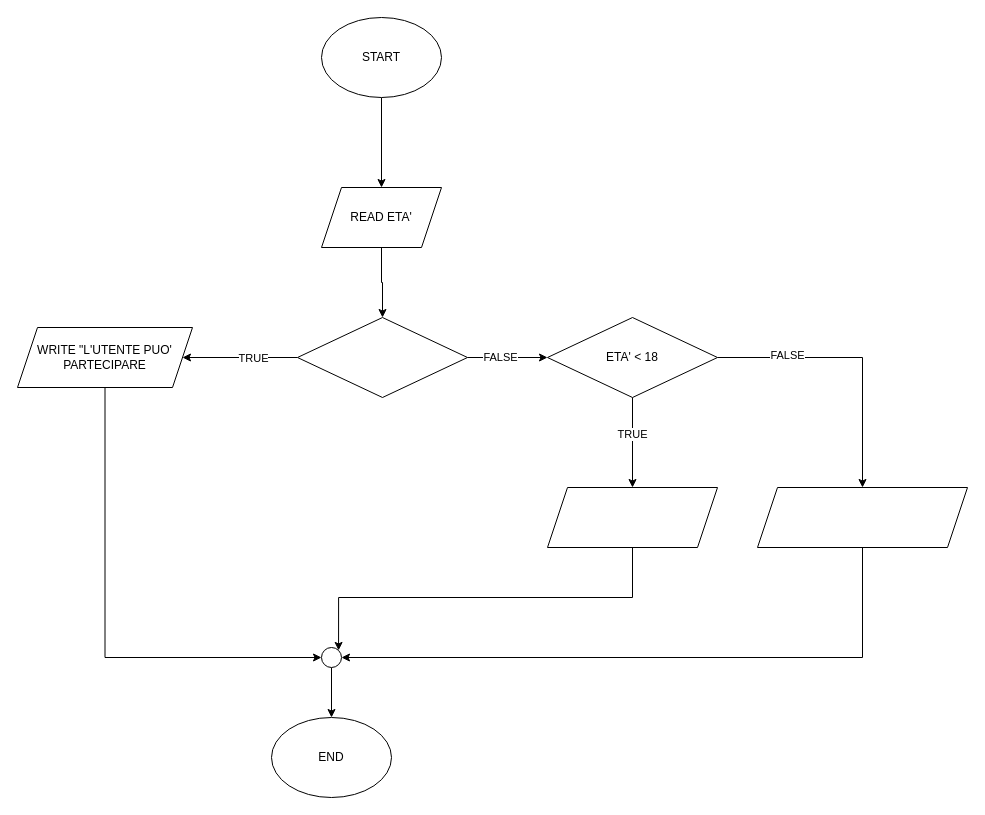
The diagram is 985 pixels wide and 815 high, and some of its shapes have lost their labels. The shapes that lost their labels are listed below. From the top down, each one's box as (x1, y1, x2, y2) in pixels, then its label:
(296, 316, 468, 398): ETA' > 18 AND ETA' <65
(546, 486, 718, 548): WRITE "NON HA L'ETA' MINIMA CONSENTITA
(756, 486, 968, 548): WRITE "HA SUPERATO L'ETA' MASSIMA CONSENTITA
